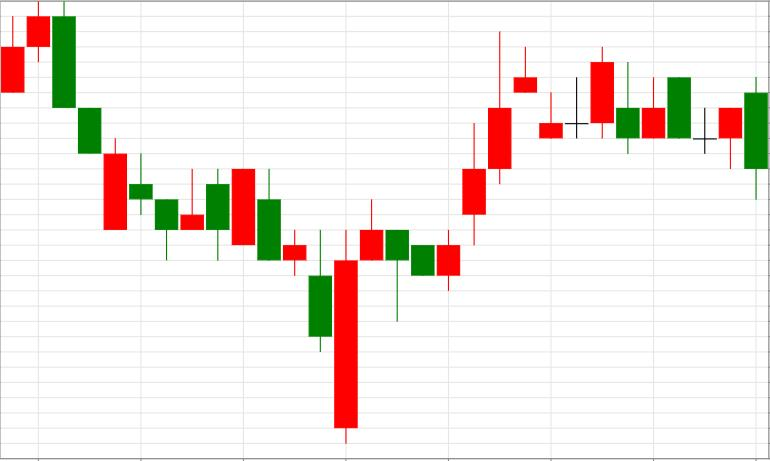bullish_engulfing_rise: (53, 0, 357, 443)
